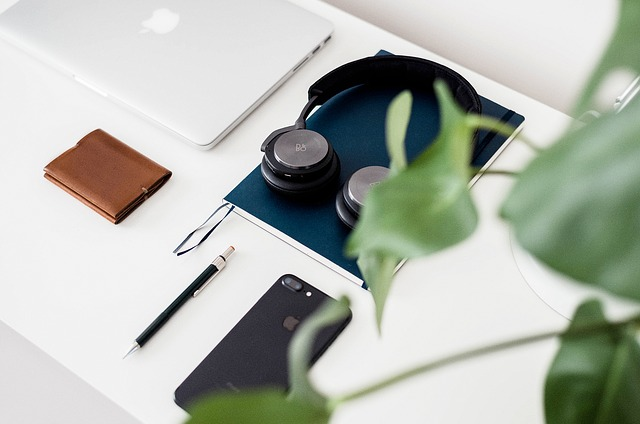headphones: (259, 55, 484, 230)
